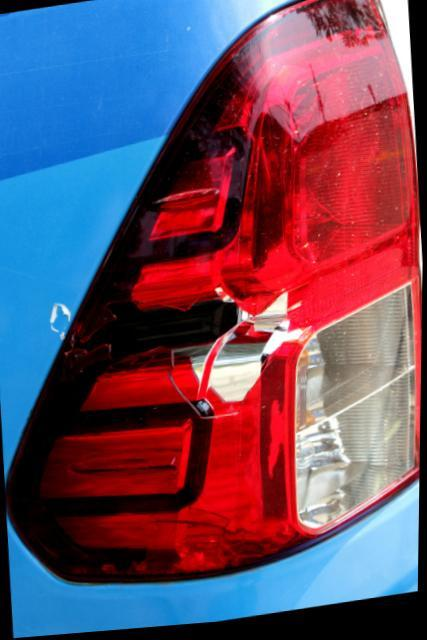lamp broken: (7, 0, 423, 587)
